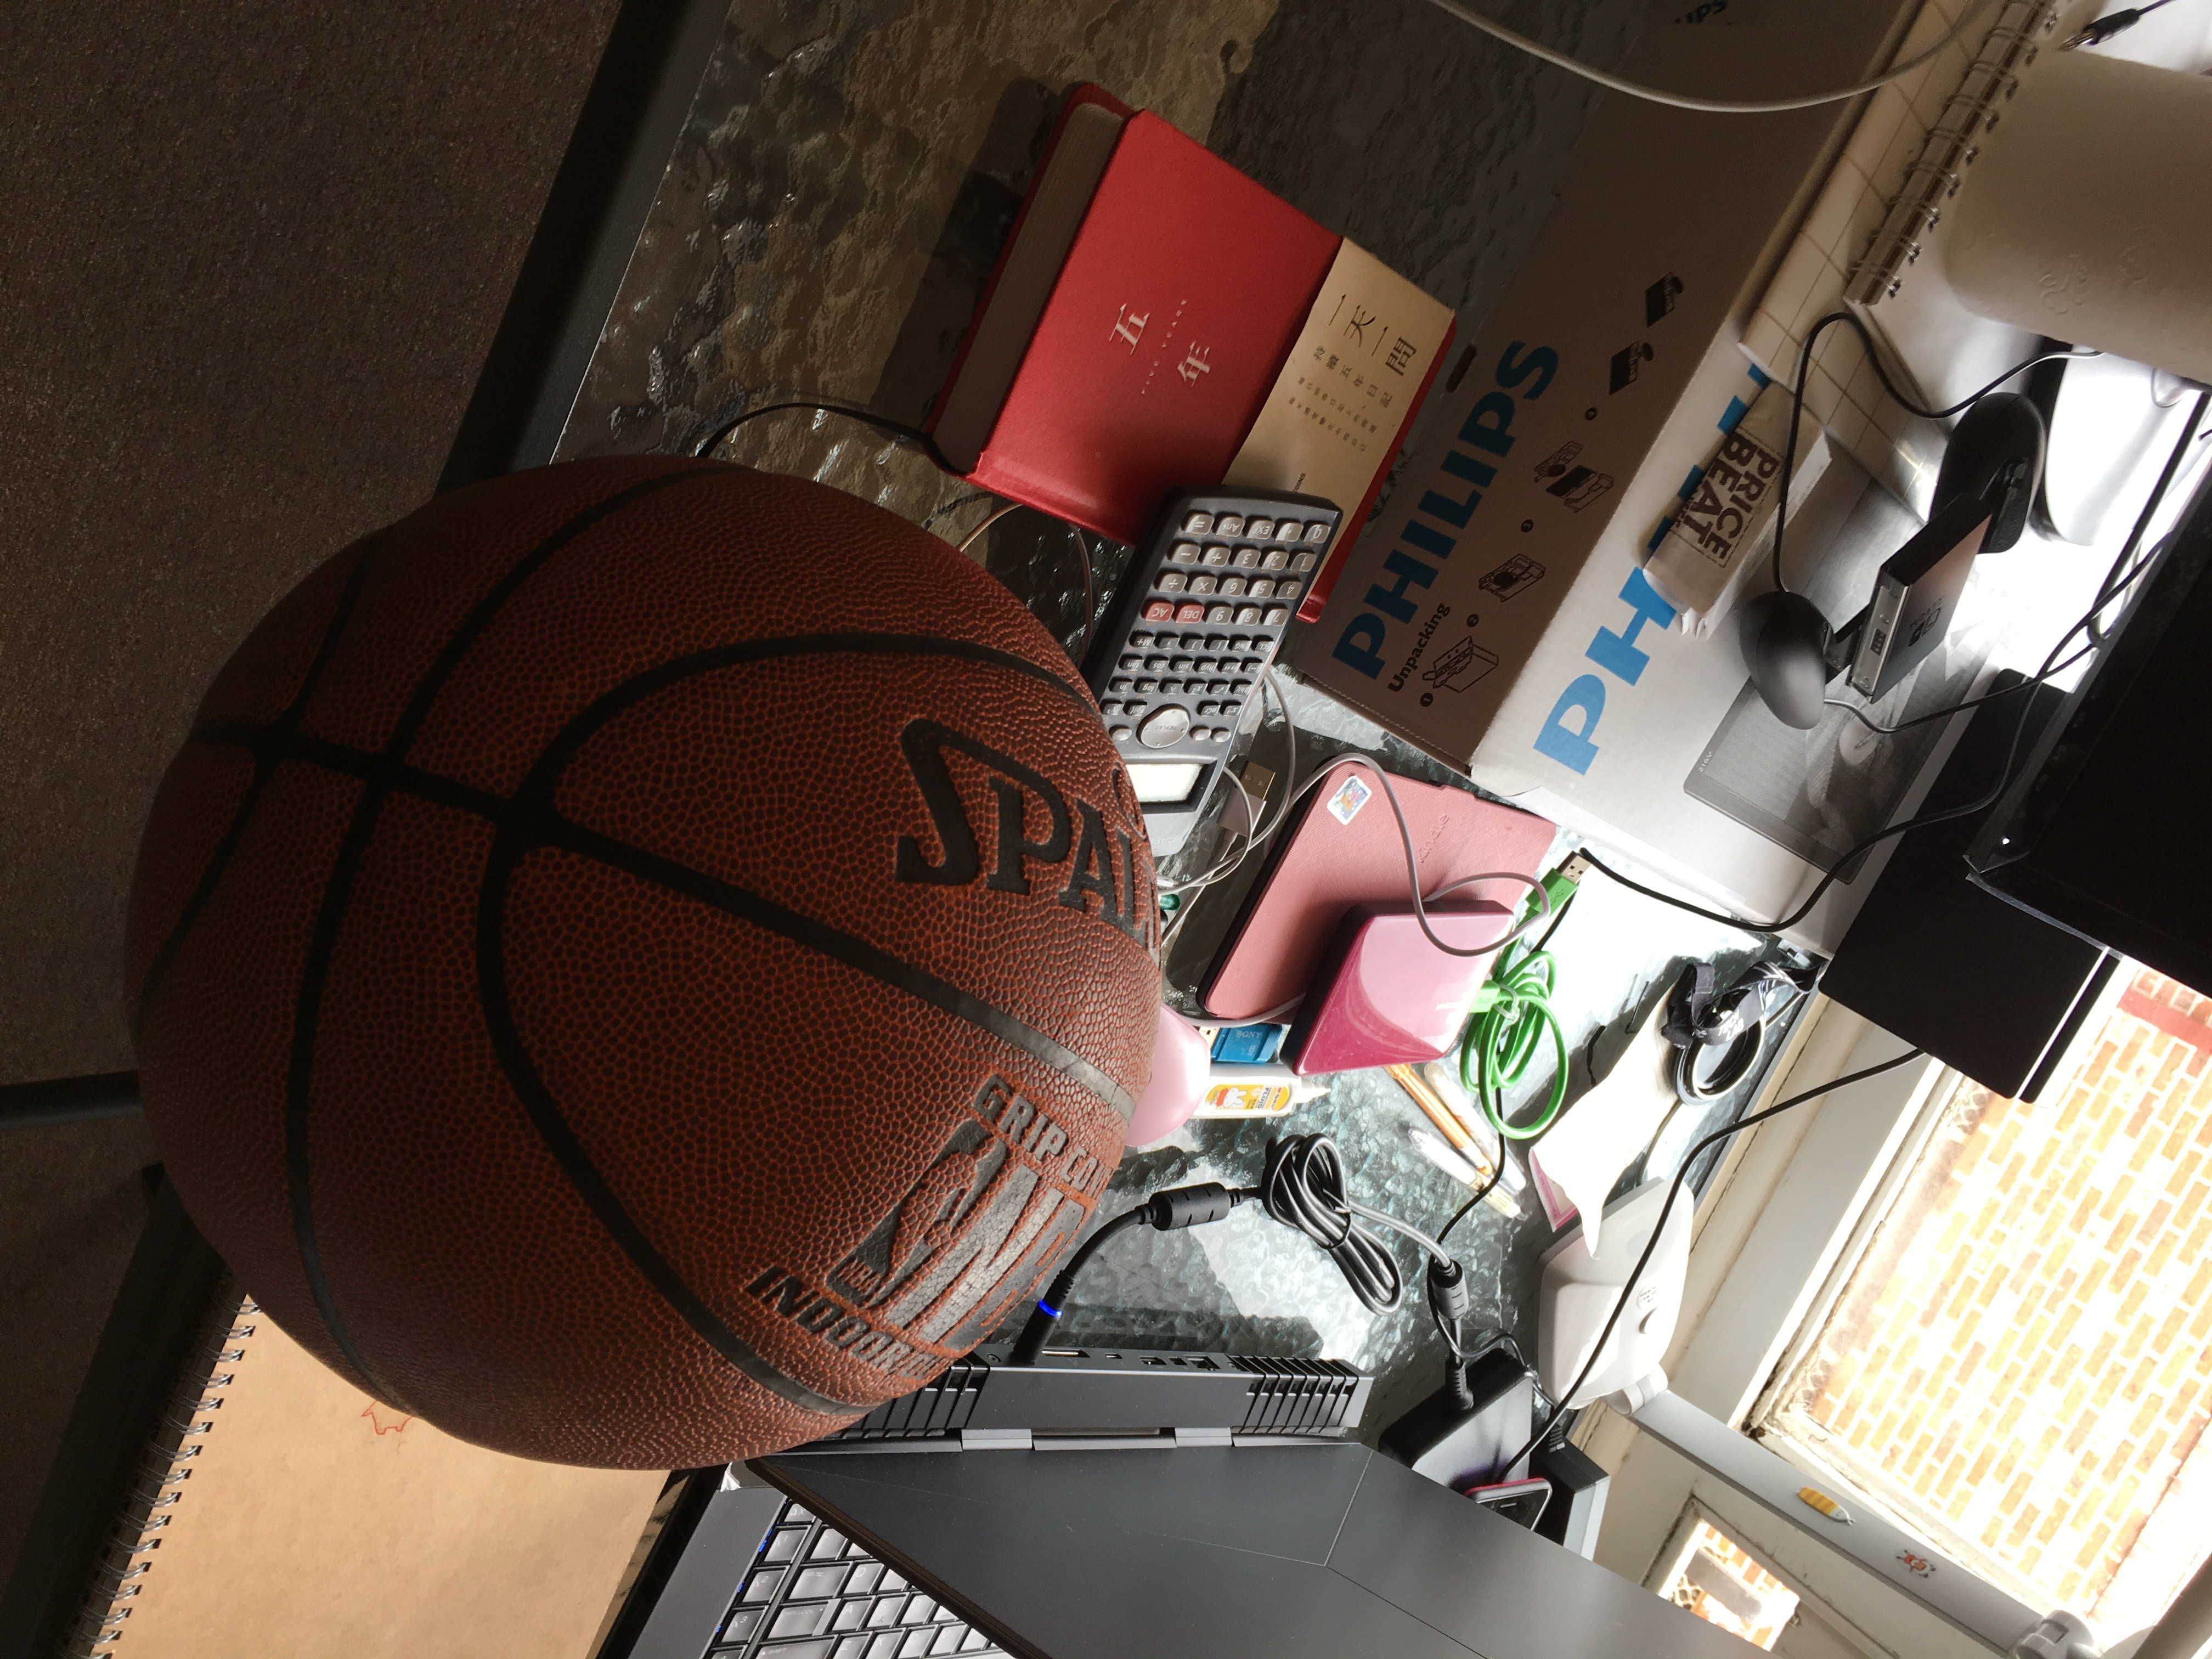Basketball: (103, 439, 1176, 1493)
Calculator: (1099, 481, 1350, 890)
